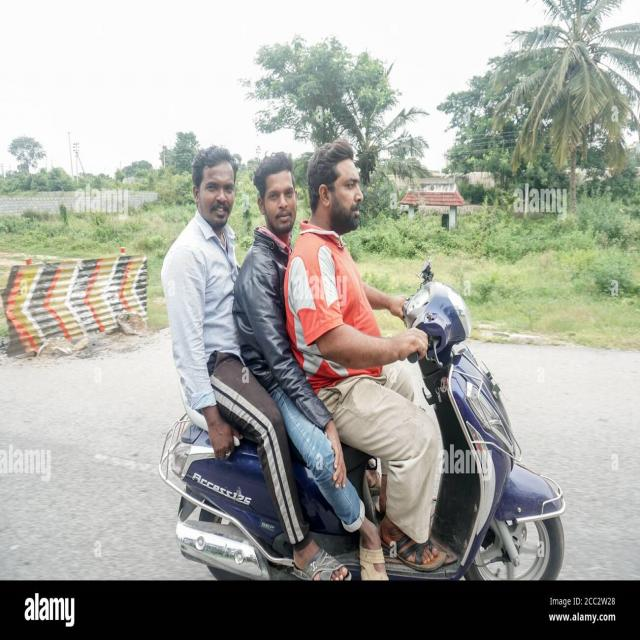Not Wearing Helmet: (313, 114, 389, 306)
Triple Riding: (118, 84, 576, 566)
